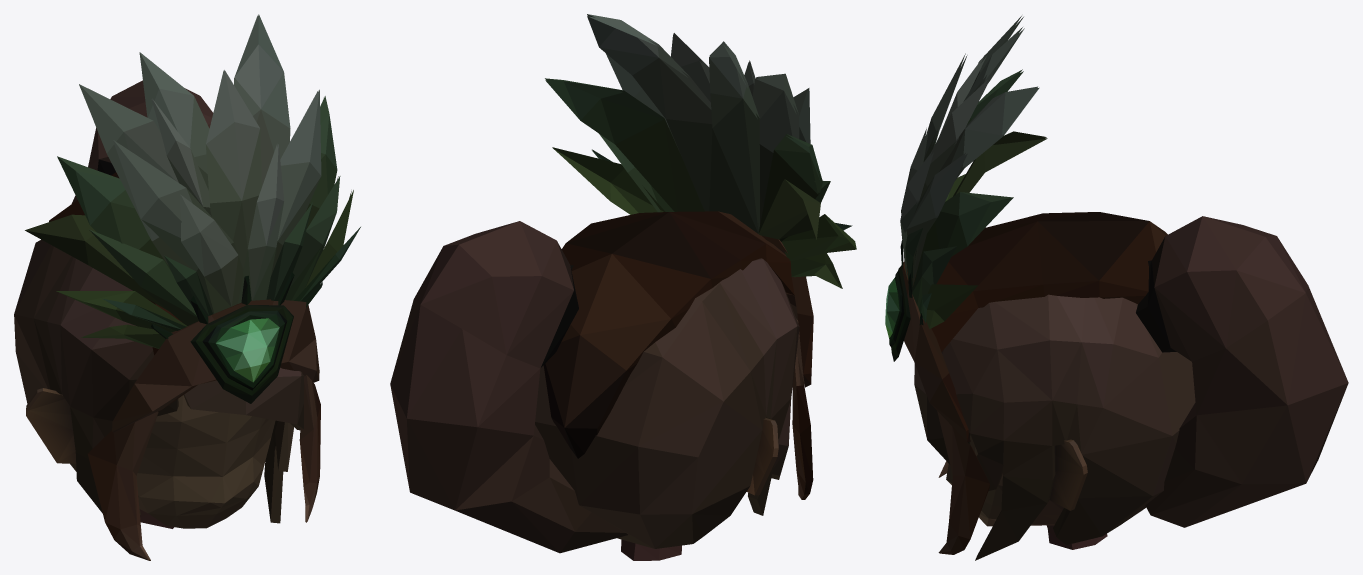
Rendered from helm_darkskin_ponytail_brown_headress.fbx.
3 views of the same model, side by side, from view 1: azimuth 30°, elevation 25°; view 2: azimuth 150°, elevation 25°; view 3: azimuth 270°, elevation 25° (orthographic). The views are drawn at different scales.
Parts seen in each view (by area): view 1: helm_darkskin_ponytail_brown_headress; view 2: helm_darkskin_ponytail_brown_headress; view 3: helm_darkskin_ponytail_brown_headress.
Boxes of the visible parts, <box> form: helm_darkskin_ponytail_brown_headress: <box>14,14,360,560</box>; helm_darkskin_ponytail_brown_headress: <box>390,14,856,560</box>; helm_darkskin_ponytail_brown_headress: <box>885,16,1348,560</box>.
Bounding box in the file's own units: 1.31 × 2.07 × 1.75.
